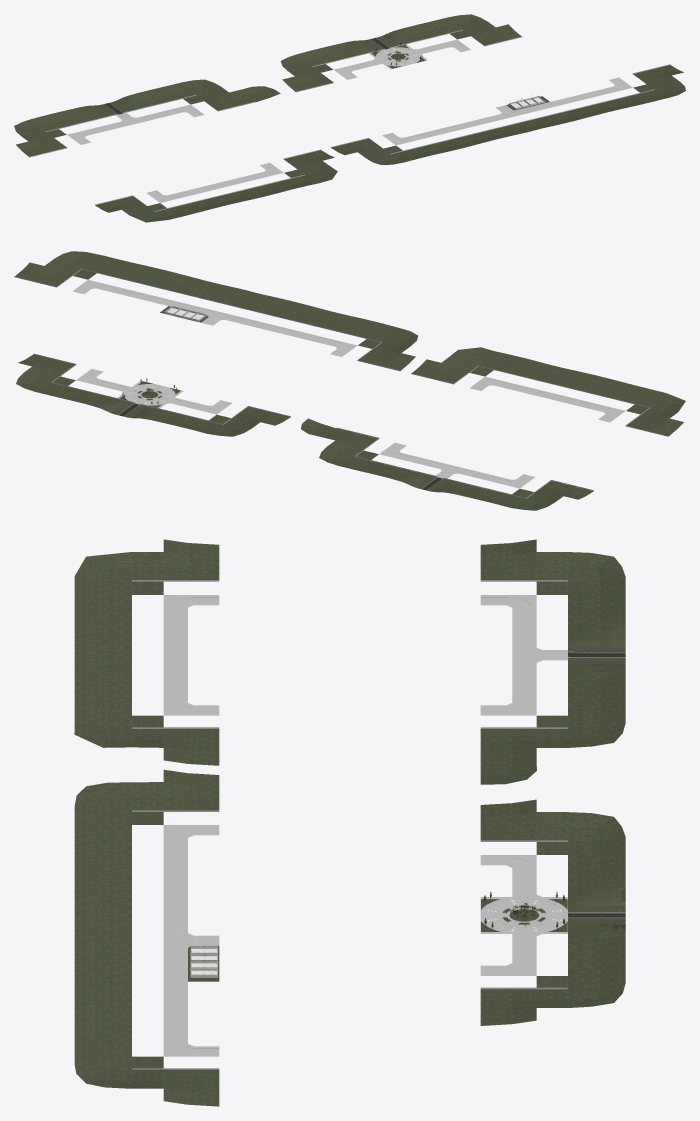
The model's file is Border-Block-03.fbx.
3 renders of one model, top to bottom at view 1: azimuth 30°, elevation 25°; view 2: azimuth 150°, elevation 25°; view 3: azimuth 270°, elevation 25°, orthographic. The views are drawn at different scales.
Visible parts, largest first — view 1: BD-TR3, BD-BL, BD-TR2, BD-TR, BD-TR3-Sidewalk, BD-BL-Sidewalk, BD-TR2-Sidewalk, BD-TR-Sidewalk, BD-G; view 2: BD-TR3, BD-TR, BD-BL, BD-TR2, BD-BL-Sidewalk, BD-TR3-Sidewalk, BD-TR2-Sidewalk, BD-TR-Sidewalk; view 3: BD-TR3, BD-BL, BD-TR2, BD-TR, BD-BL-Sidewalk, BD-TR3-Sidewalk, BD-TR2-Sidewalk, BD-TR-Sidewalk, BD-G.
Boxes of the visible parts, bbox=[...] form: BD-TR3: bbox=[330, 64, 685, 164]; BD-BL: bbox=[280, 14, 522, 92]; BD-TR2: bbox=[14, 79, 255, 157]; BD-TR: bbox=[95, 149, 337, 222]; BD-TR3-Sidewalk: bbox=[382, 77, 632, 145]; BD-BL-Sidewalk: bbox=[334, 39, 470, 79]; BD-TR2-Sidewalk: bbox=[67, 104, 204, 144]; BD-TR-Sidewalk: bbox=[146, 162, 283, 202]; BD-G: bbox=[242, 86, 280, 101]; BD-TR3: bbox=[14, 251, 417, 371]; BD-TR: bbox=[411, 347, 685, 436]; BD-BL: bbox=[16, 353, 290, 436]; BD-TR2: bbox=[319, 427, 593, 510]; BD-BL-Sidewalk: bbox=[76, 368, 231, 414]; BD-TR3-Sidewalk: bbox=[73, 279, 357, 356]; BD-TR2-Sidewalk: bbox=[379, 442, 534, 488]; BD-TR-Sidewalk: bbox=[469, 376, 625, 422]; BD-TR3: bbox=[74, 769, 219, 1106]; BD-BL: bbox=[480, 799, 625, 1025]; BD-TR2: bbox=[480, 539, 625, 765]; BD-TR: bbox=[74, 539, 219, 765]; BD-BL-Sidewalk: bbox=[480, 855, 567, 975]; BD-TR3-Sidewalk: bbox=[163, 825, 219, 1056]; BD-TR2-Sidewalk: bbox=[480, 595, 567, 715]; BD-TR-Sidewalk: bbox=[163, 595, 219, 715]; BD-G: bbox=[480, 760, 536, 784].
Size of what is drawn, in the model's own units: 1525 by 16.17 by 632.
